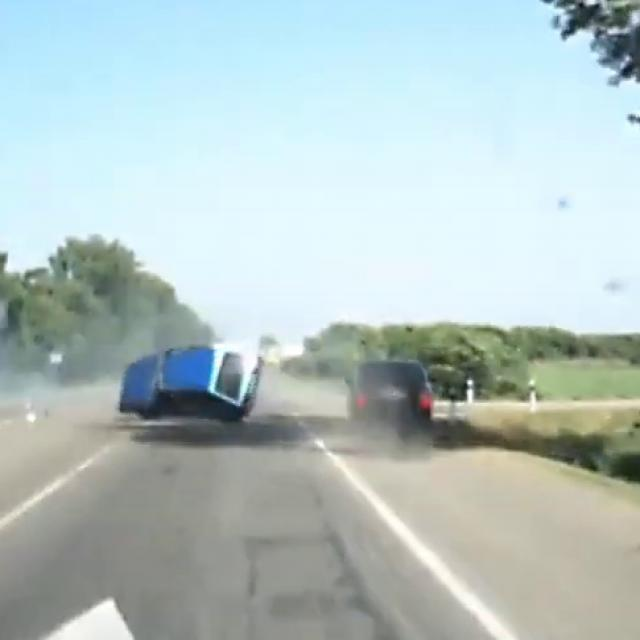accident: (99, 319, 280, 440)
